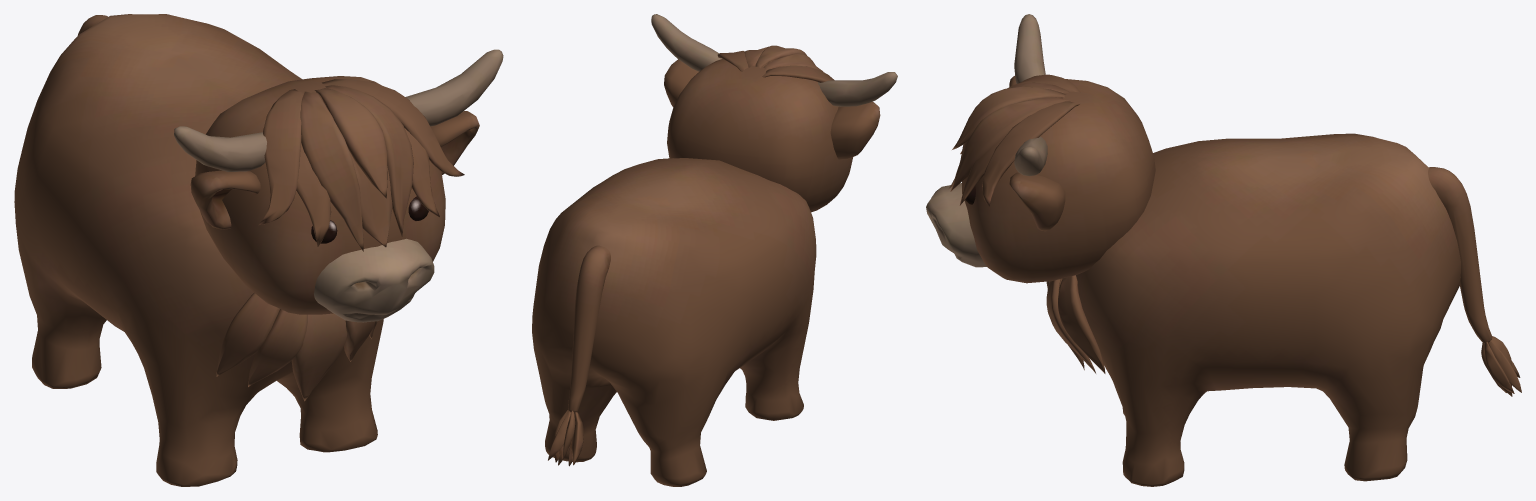
Rendered from sv_highlandcow.glb.
3 views of the same model, side by side, from view 1: azimuth 30°, elevation 25°; view 2: azimuth 150°, elevation 25°; view 3: azimuth 270°, elevation 25° (orthographic). The views are drawn at different scales.
Parts seen in each view (by area): view 1: sv_highlandcow; view 2: sv_highlandcow; view 3: sv_highlandcow.
Boxes of the visible parts, x1,y1,x2,y2 form: sv_highlandcow: [14, 14, 503, 486]; sv_highlandcow: [532, 14, 897, 486]; sv_highlandcow: [926, 14, 1521, 486].
Bounding box in the file's own units: 0.5202 × 0.641 × 0.95.
Materials: 3 (3 with a texture image).
